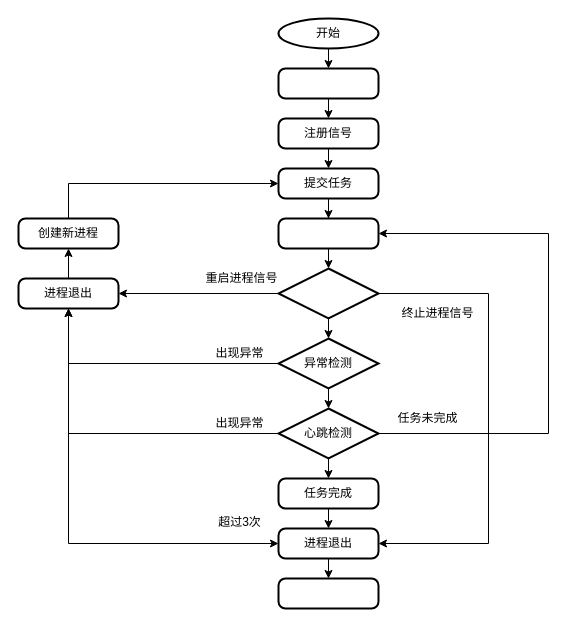
The diagram is 574 pixels wide and 626 high, and some of its shapes have lost their labels. The box of each missing label's shape, as (x1, y1, x2, y2) in pixels:
信号检测: (277, 267, 379, 319)
创建进程池: (277, 67, 379, 99)
执行任务: (277, 217, 379, 249)
进程池退出: (277, 577, 379, 609)
